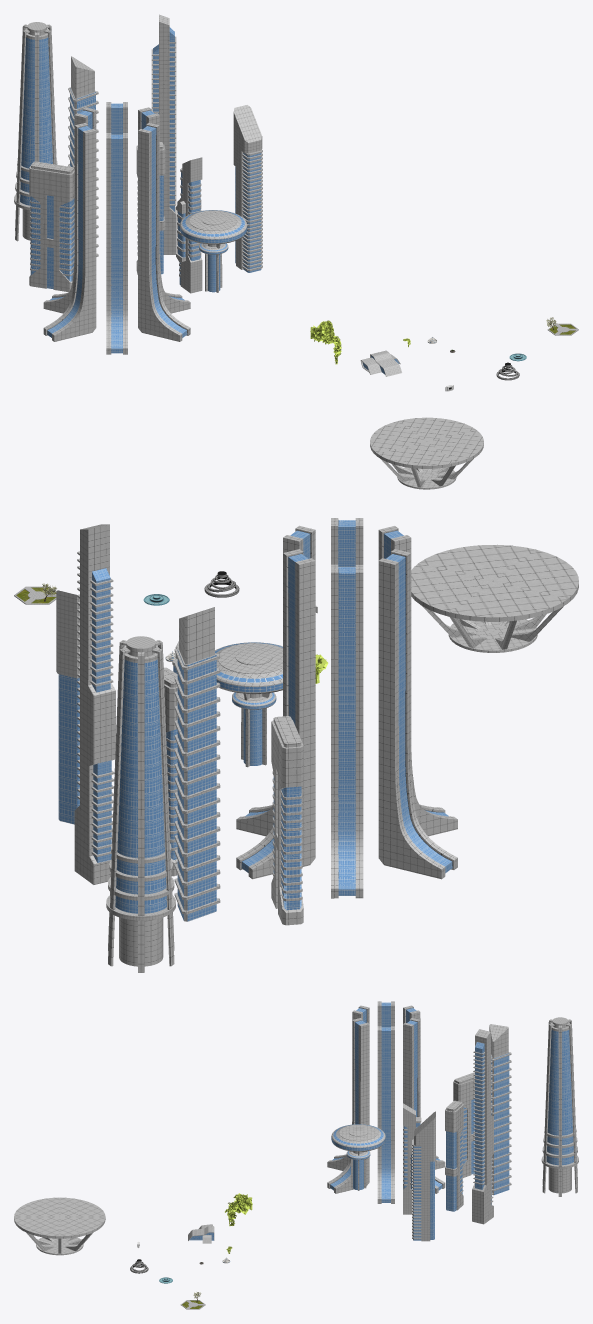
File: OuterThings.fbx
3 renders of one model, top to bottom at view 1: azimuth 30°, elevation 25°; view 2: azimuth 150°, elevation 25°; view 3: azimuth 270°, elevation 25°, orthographic. The views are drawn at different scales.
Parts seen in each view (by area): view 1: SFB_03, G2.009_GridTiles, SFB_02, SFB_09, SFB_06, SFB_07, SFB_10, SFB_08, SFB_04, SFB_05, SFB_01, Bail2; view 2: SFB_03, SFB_02, G2.009_GridTiles, SFB_04, SFB_07, SFB_09, SFB_10, SFB_06, SFB_05; view 3: SFB_03, SFB_02, G2.009_GridTiles, SFB_07, SFB_04, SFB_06, SFB_05, SFB_10, SFB_09, SFB_08, Bail2, SFB_01.
Boxes of the visible parts, x1,y1,x2,y2 form: SFB_03: [43, 102, 190, 354]; G2.009_GridTiles: [370, 417, 483, 489]; SFB_02: [14, 22, 57, 241]; SFB_09: [29, 161, 74, 292]; SFB_06: [233, 105, 262, 272]; SFB_07: [151, 14, 176, 254]; SFB_10: [180, 210, 247, 292]; SFB_08: [176, 157, 202, 293]; SFB_04: [68, 56, 98, 256]; SFB_05: [136, 142, 165, 274]; SFB_01: [360, 350, 401, 376]; Bail2: [310, 320, 341, 364]; SFB_03: [236, 518, 457, 898]; SFB_02: [106, 636, 175, 972]; G2.009_GridTiles: [411, 544, 578, 652]; SFB_04: [174, 607, 220, 921]; SFB_07: [74, 524, 115, 884]; SFB_09: [271, 716, 303, 925]; SFB_10: [215, 642, 282, 767]; SFB_06: [56, 590, 79, 824]; SFB_05: [163, 667, 177, 876]; SFB_03: [327, 1001, 445, 1203]; SFB_02: [541, 1017, 578, 1196]; G2.009_GridTiles: [14, 1197, 105, 1255]; SFB_07: [472, 1029, 493, 1224]; SFB_04: [489, 1024, 511, 1195]; SFB_06: [412, 1111, 435, 1241]; SFB_05: [445, 1100, 463, 1211]; SFB_10: [331, 1124, 385, 1190]; SFB_09: [453, 1072, 474, 1177]; SFB_08: [403, 1103, 421, 1214]; Bail2: [225, 1193, 252, 1226]; SFB_01: [188, 1224, 214, 1243].
Bounding box in the file's own units: 525 × 329 × 789.
